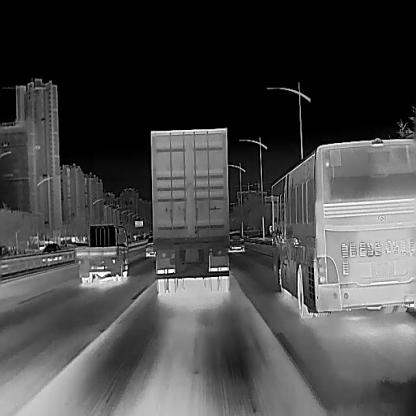bus: (264, 137, 415, 318)
car: (74, 221, 129, 282), (40, 241, 61, 262), (226, 230, 244, 253), (144, 236, 156, 256)
truck: (150, 127, 230, 293)
